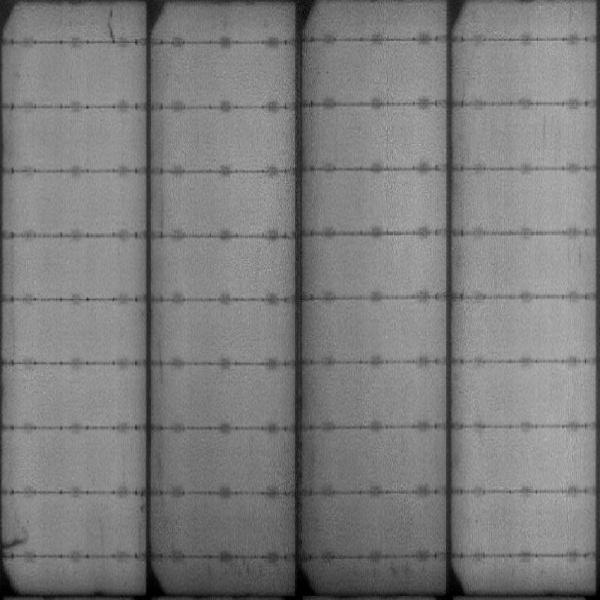scratch: (1, 532, 29, 554), (106, 8, 120, 41)
